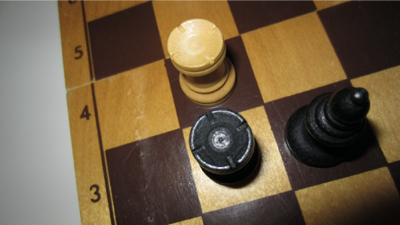black-bishop: (284, 86, 372, 168)
black-rook: (189, 109, 262, 186)
white-rook: (167, 18, 238, 108)
